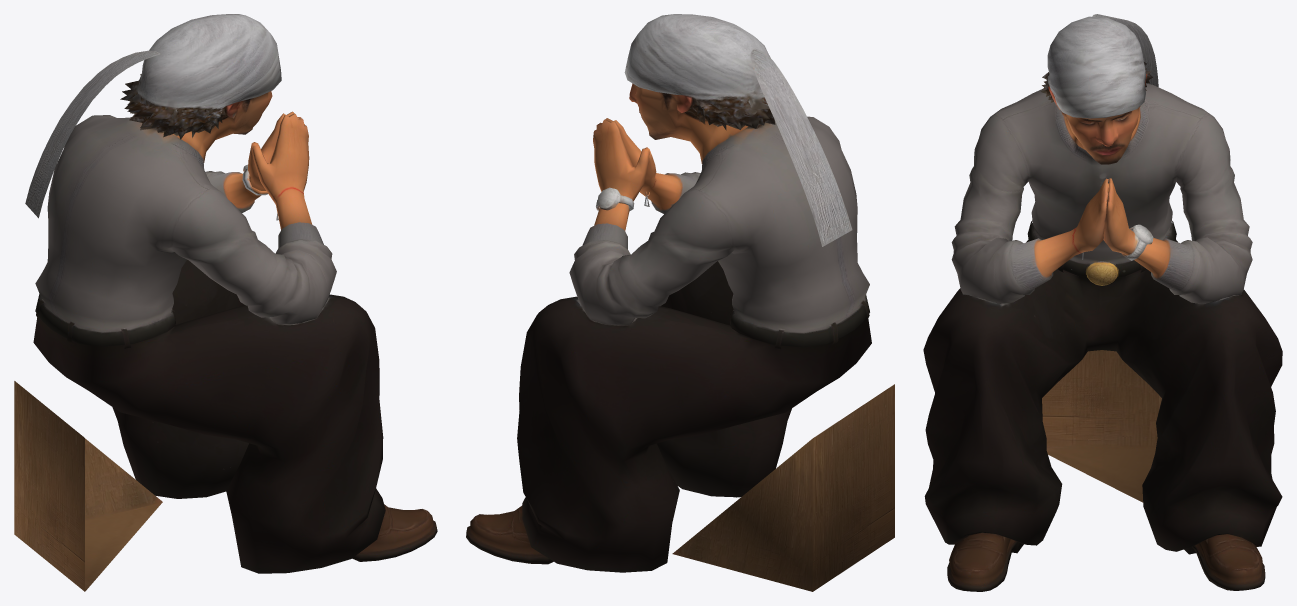
File: rainn-orando.glb
The picture shows the model from 3 angles, left to right: view 1: azimuth 30°, elevation 25°; view 2: azimuth 150°, elevation 25°; view 3: azimuth 270°, elevation 25°; orthographic projection.
Parts seen in each view (by area): view 1: tripo_node_57b18cf3-9f8a-40a3-bf3e-303d9d7fe3ee; view 2: tripo_node_57b18cf3-9f8a-40a3-bf3e-303d9d7fe3ee; view 3: tripo_node_57b18cf3-9f8a-40a3-bf3e-303d9d7fe3ee.
Boxes of the visible parts, left/top/right/bottom form: tripo_node_57b18cf3-9f8a-40a3-bf3e-303d9d7fe3ee: left=14, top=14, right=437, bottom=591; tripo_node_57b18cf3-9f8a-40a3-bf3e-303d9d7fe3ee: left=466, top=14, right=894, bottom=591; tripo_node_57b18cf3-9f8a-40a3-bf3e-303d9d7fe3ee: left=923, top=14, right=1282, bottom=591.
Size of the model in its own units: 0.6714 by 0.9995 by 0.6567.
Materials: 1 (1 with a texture image).
